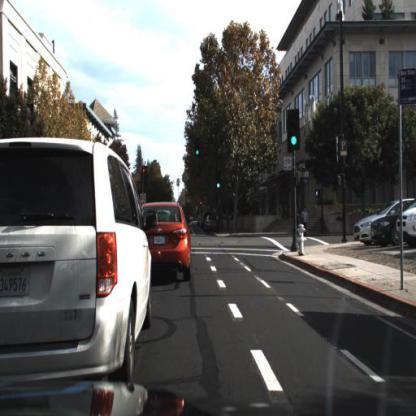car: (1, 135, 156, 400), (134, 196, 196, 285), (353, 200, 400, 247), (369, 204, 415, 251), (395, 202, 416, 244), (204, 215, 221, 236)
pedestrian: (301, 205, 310, 238), (294, 208, 303, 235)
trafficLight: (286, 105, 304, 155), (215, 171, 223, 193)
trafficLight-Green: (195, 138, 202, 161)
trafficLight-RedLeft: (141, 172, 149, 195)
